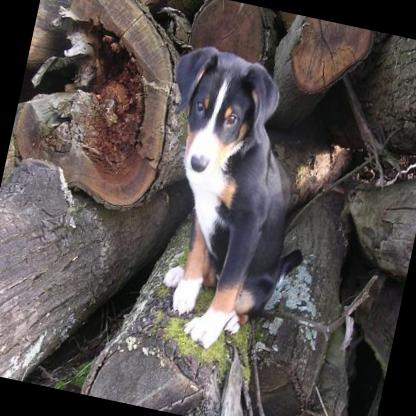Appenzeller: (117, 38, 340, 362)
